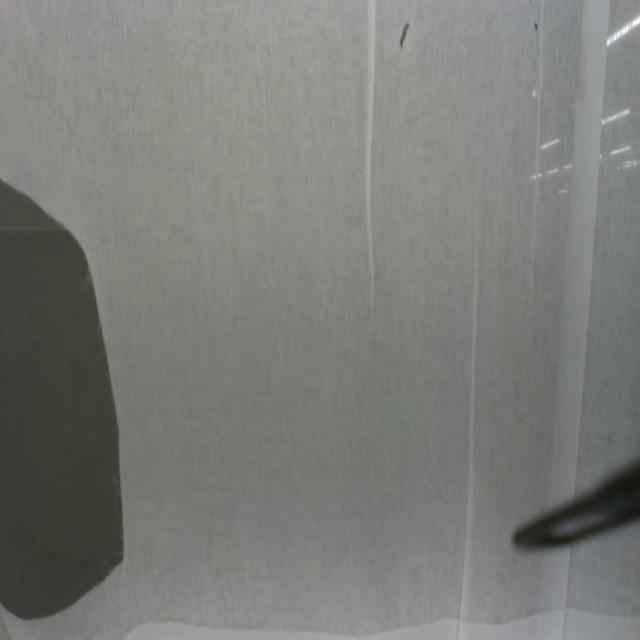hole: (0, 175, 125, 624), (398, 23, 409, 49), (534, 20, 539, 34)
